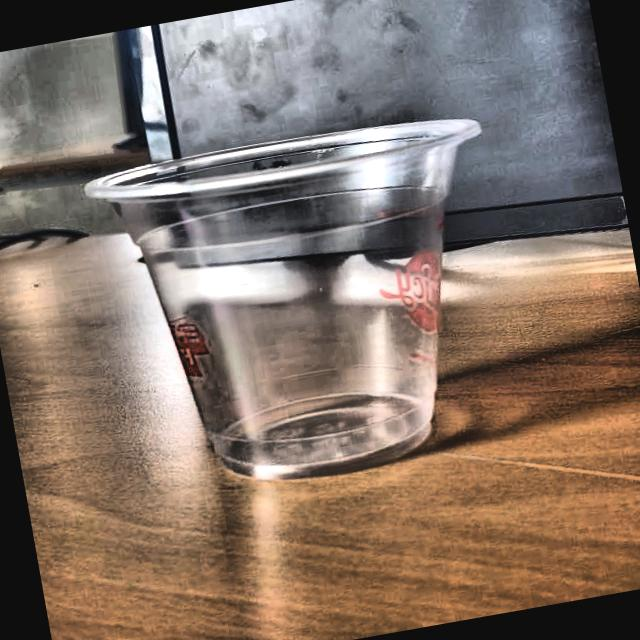plastic cup: (81, 102, 536, 510)
